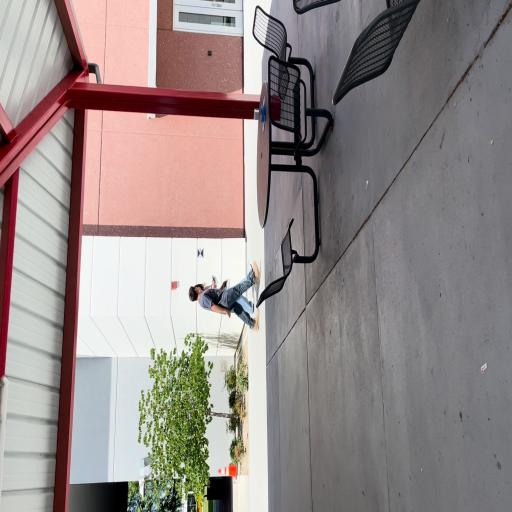target9: (198, 248, 204, 258)
